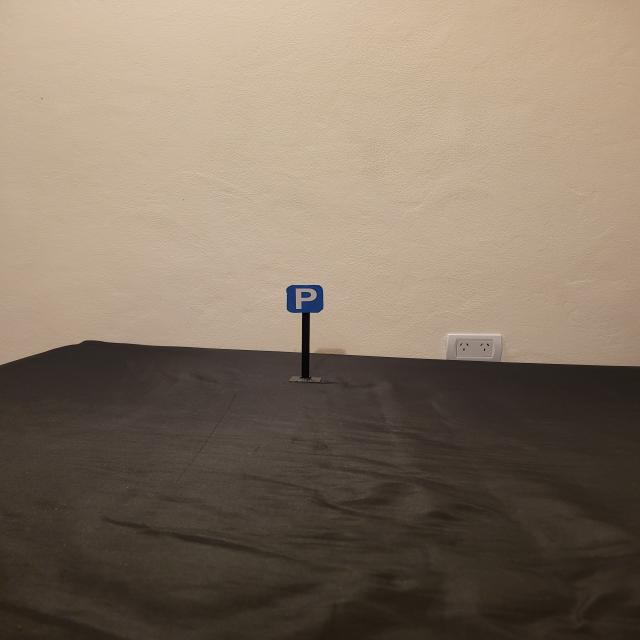parking: (285, 284, 324, 314)
